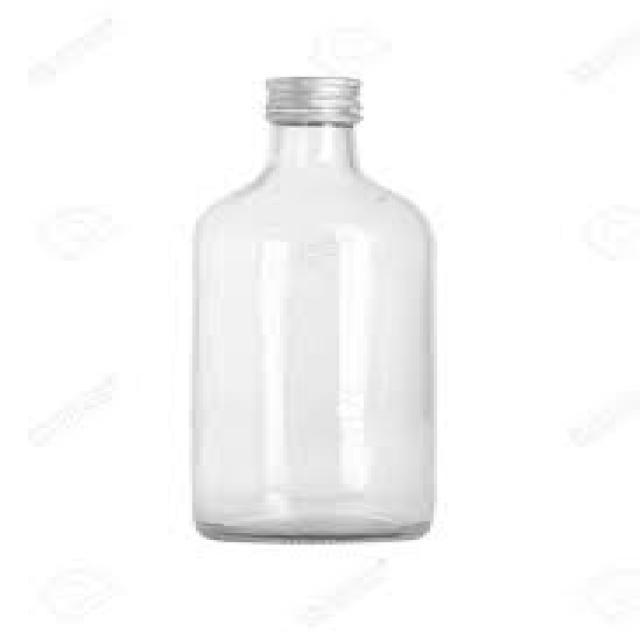Glass: (198, 78, 431, 543)
